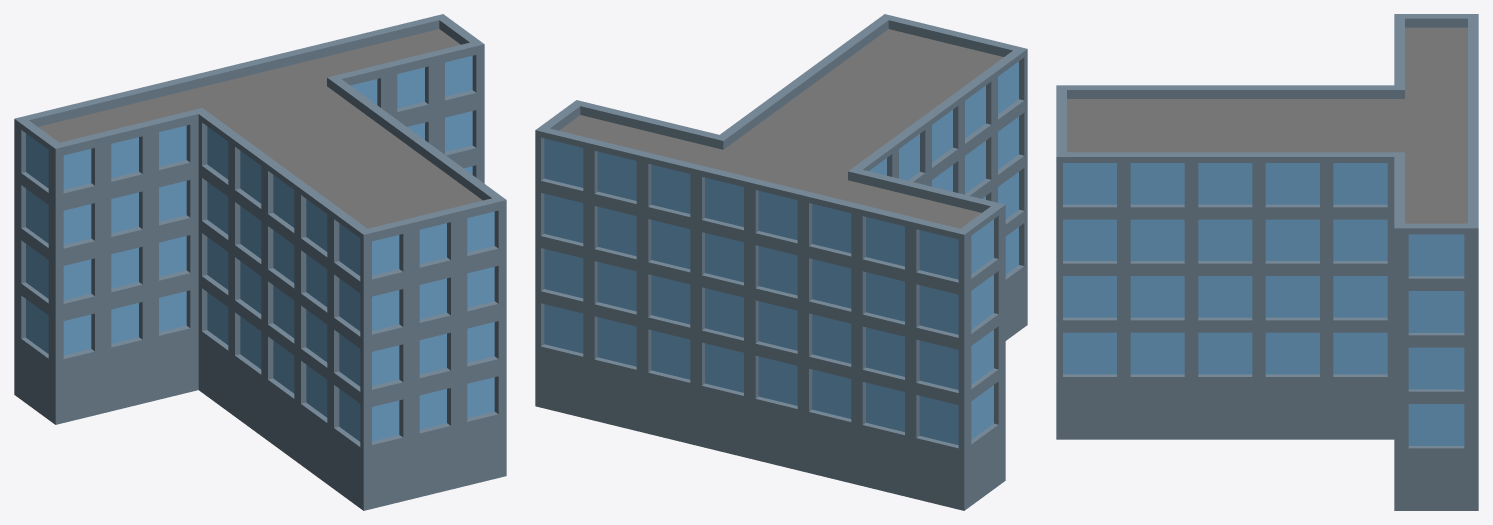
The model's file is Buidling1.fbx.
The picture shows the model from 3 angles, left to right: view 1: azimuth 30°, elevation 25°; view 2: azimuth 150°, elevation 25°; view 3: azimuth 270°, elevation 25°; orthographic projection. The views are drawn at different scales.
Parts seen in each view (by area): view 1: City.003; view 2: City.003; view 3: City.003.
Boxes of the visible parts, box(x1,y1,x2,y2) form: City.003: box(14, 14, 506, 510); City.003: box(535, 14, 1027, 510); City.003: box(1056, 14, 1478, 510).
Bounding box in the file's own units: 2816 × 1732 × 2346.
